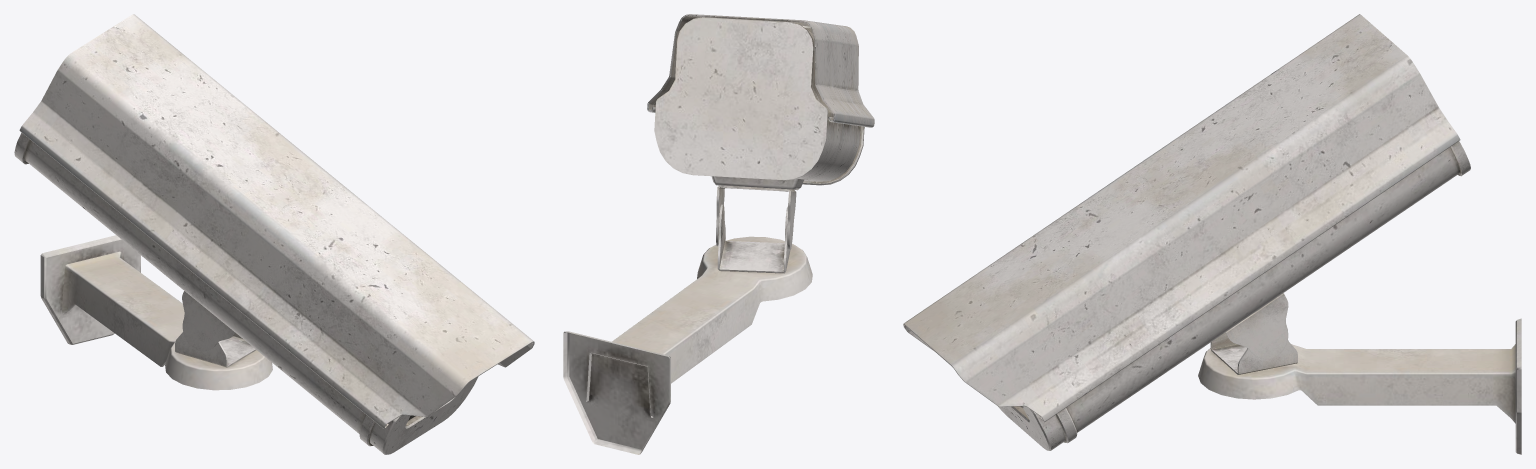
File: SM_CCTV_Heavy.glb
3 renders of one model, left to right at view 1: azimuth 30°, elevation 25°; view 2: azimuth 150°, elevation 25°; view 3: azimuth 270°, elevation 25°, orthographic. The views are drawn at different scales.
Visible parts, largest first — view 1: SM_CCTV_Heavy; view 2: SM_CCTV_Heavy; view 3: SM_CCTV_Heavy.
Part boxes in pixels (<box>): SM_CCTV_Heavy: <box>14,14,534,454</box>; SM_CCTV_Heavy: <box>563,14,874,454</box>; SM_CCTV_Heavy: <box>903,14,1521,454</box>.
Bounding box in the file's own units: 0.2724 × 0.3082 × 0.4515.
Materials: 1 (1 with a texture image).
